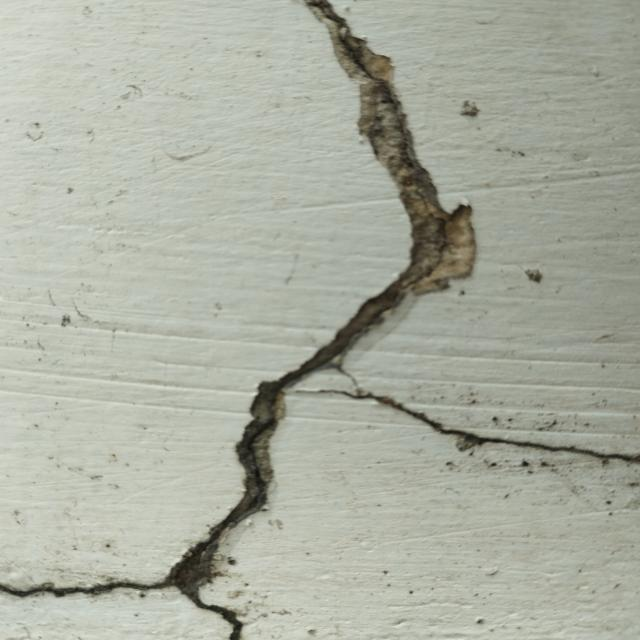branched cracks: (0, 0, 639, 639)
